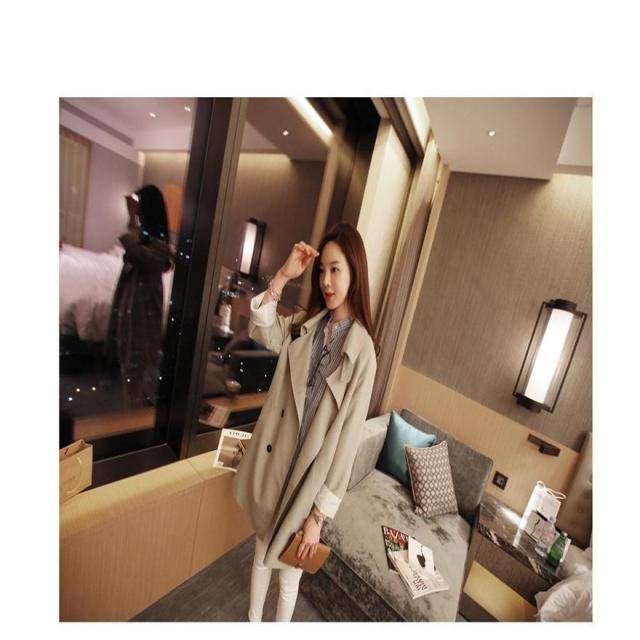long-sleeve-outwear: (251, 283, 387, 592)
